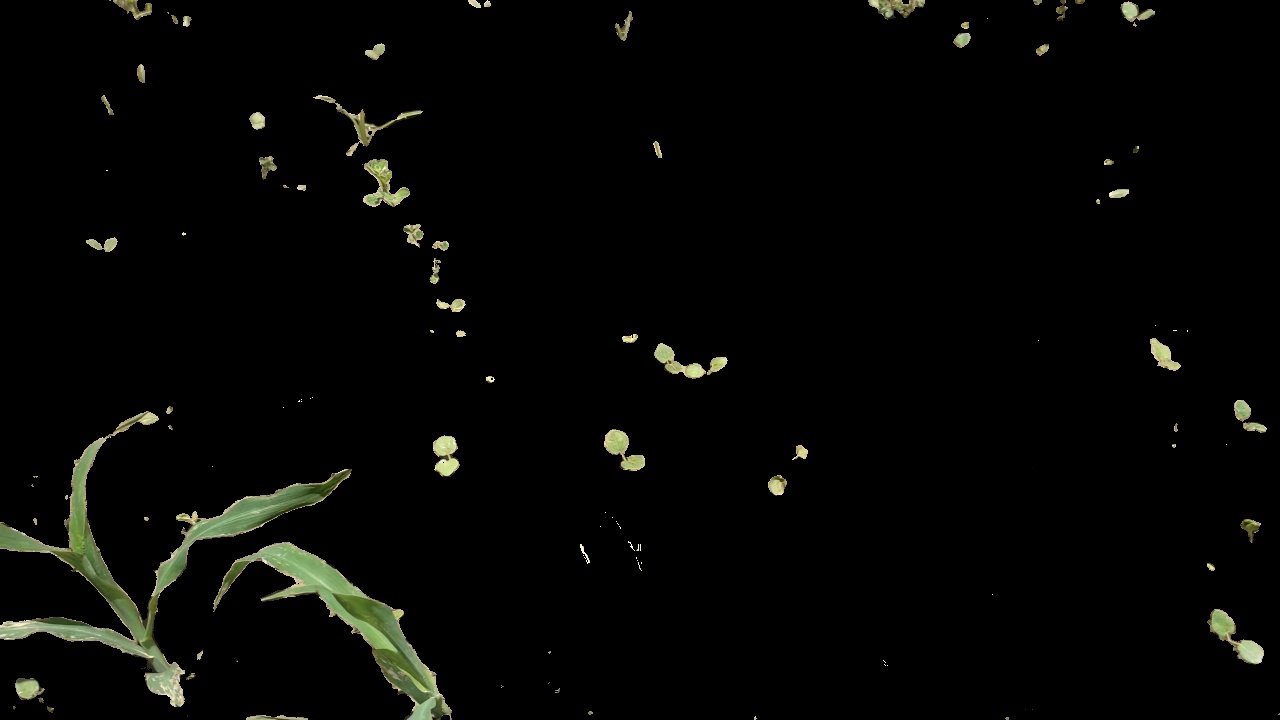crop: (1, 376, 212, 716), (214, 541, 463, 720)
weed: (320, 91, 423, 158), (1208, 599, 1271, 678), (361, 158, 425, 215), (768, 438, 811, 510), (595, 424, 651, 478), (653, 342, 728, 377), (421, 428, 465, 477), (1232, 391, 1268, 440), (1145, 332, 1181, 377), (1229, 512, 1268, 548), (1115, 1, 1165, 29), (83, 232, 130, 257), (400, 220, 430, 246), (428, 295, 475, 311)
